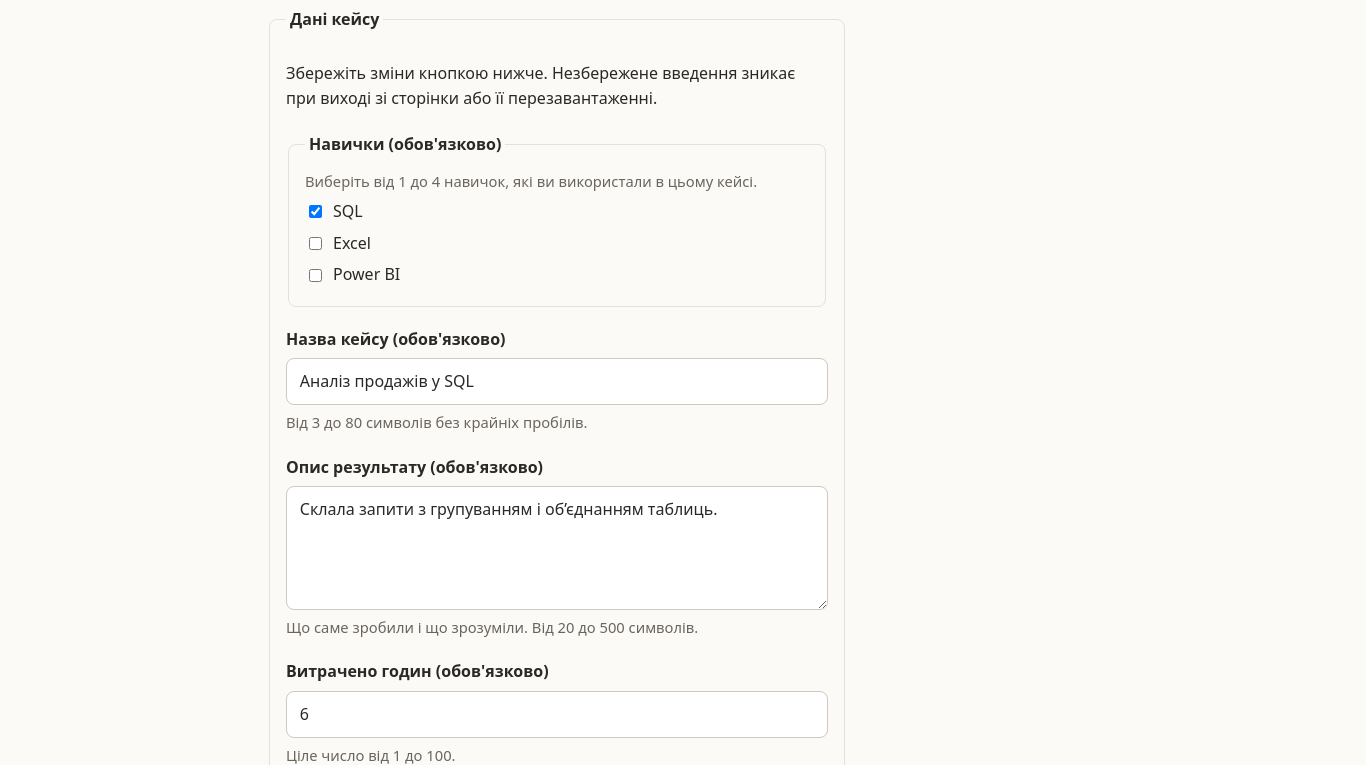
Scenario: редагує кейс із тим самим id та новою назвою
(page scrolled)
Replace the text in the field labelled "Назва кейсу (обов'язково)" with "Оновлена назва кейсу": (557, 382) [286, 358, 828, 405]
(page scrolled)
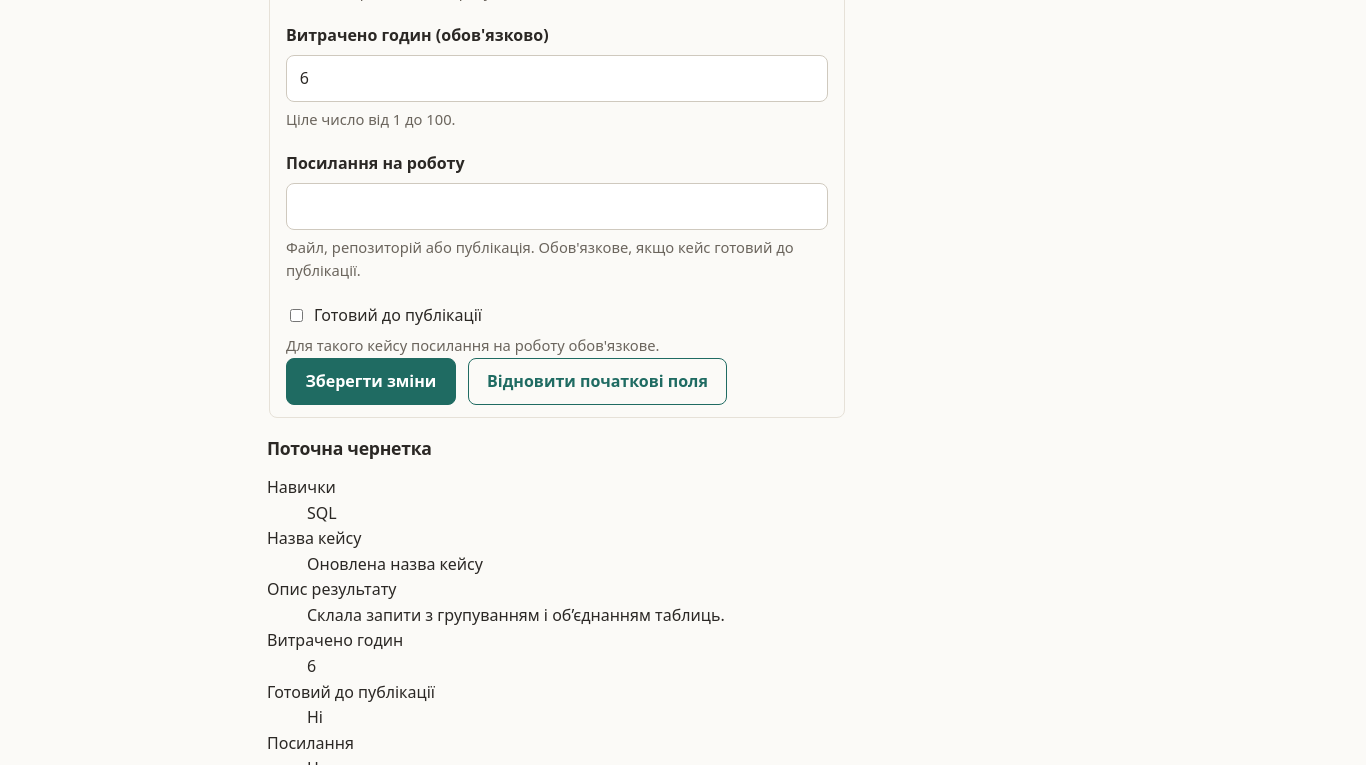
Click the button "Зберегти зміни": (371, 381) [286, 358, 456, 405]
(page scrolled)
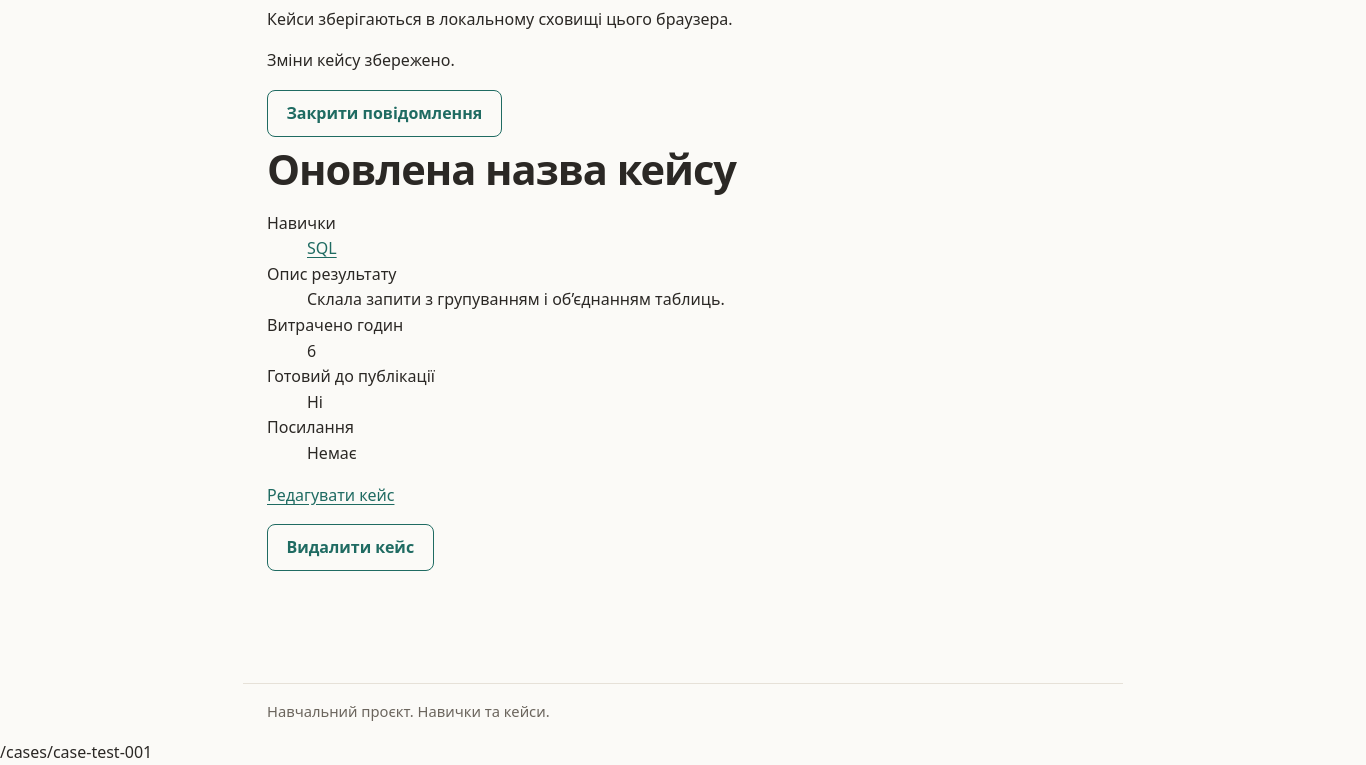
Expected: the heading "Оновлена назва кейсу" is shown, [267, 141, 736, 197]
Expected: the text with test id "location" reads "/cases/case-test-001", [0, 740, 152, 762]
